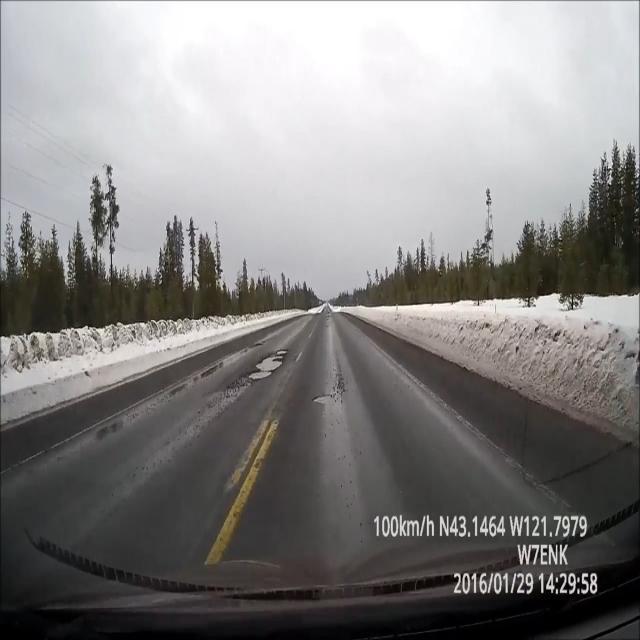Buraco: (240, 348, 292, 383), (310, 392, 336, 407)
